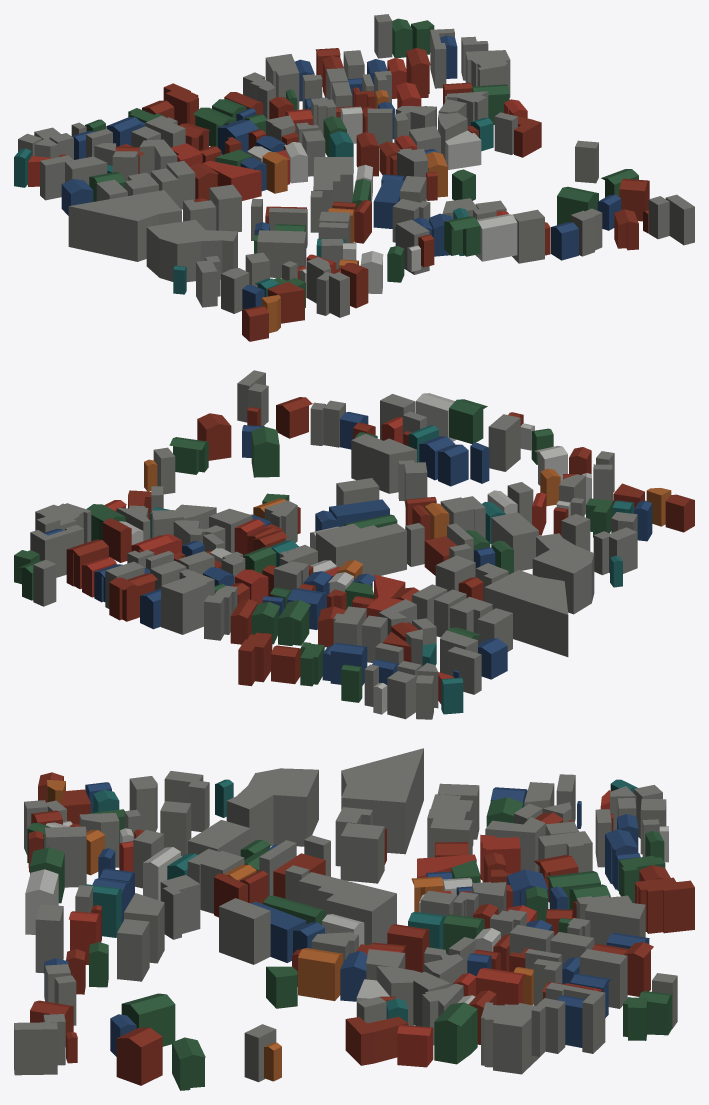
The model's file is near-17-109443-59472.002a6cac.glb.
3 views of the same model, one above another, from view 1: azimuth 30°, elevation 25°; view 2: azimuth 150°, elevation 25°; view 3: azimuth 270°, elevation 25° (orthographic). The views are drawn at different scales.
Bounding box in the file's own units: 321 × 52.2 × 314.
